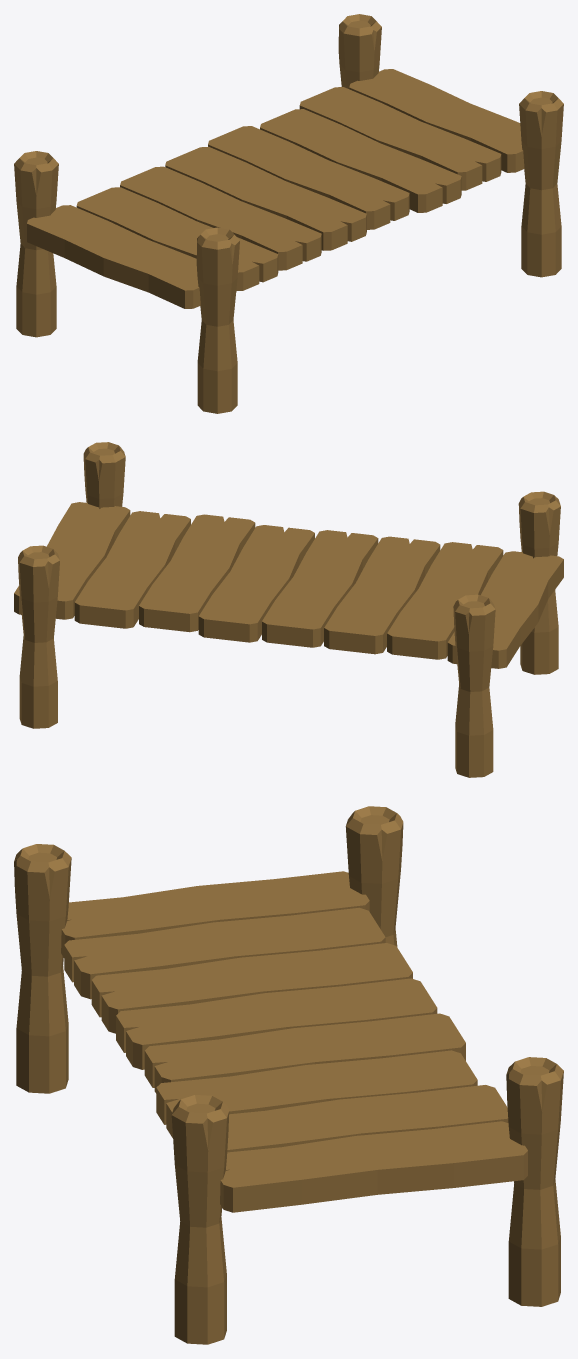
Rendered from brige_s2.fbx.
The picture shows the model from 3 angles, top to bottom: view 1: azimuth 30°, elevation 25°; view 2: azimuth 150°, elevation 25°; view 3: azimuth 270°, elevation 25°; orthographic projection. The views are drawn at different scales.
Visible parts, largest first — view 1: Cube.058; view 2: Cube.058; view 3: Cube.058.
Boxes of the visible parts, box(x1,y1,x2,y2) form: Cube.058: box(14, 14, 563, 413); Cube.058: box(14, 442, 563, 777); Cube.058: box(14, 806, 563, 1344).
Size of the model in its own units: 1805 by 610 by 1325.
